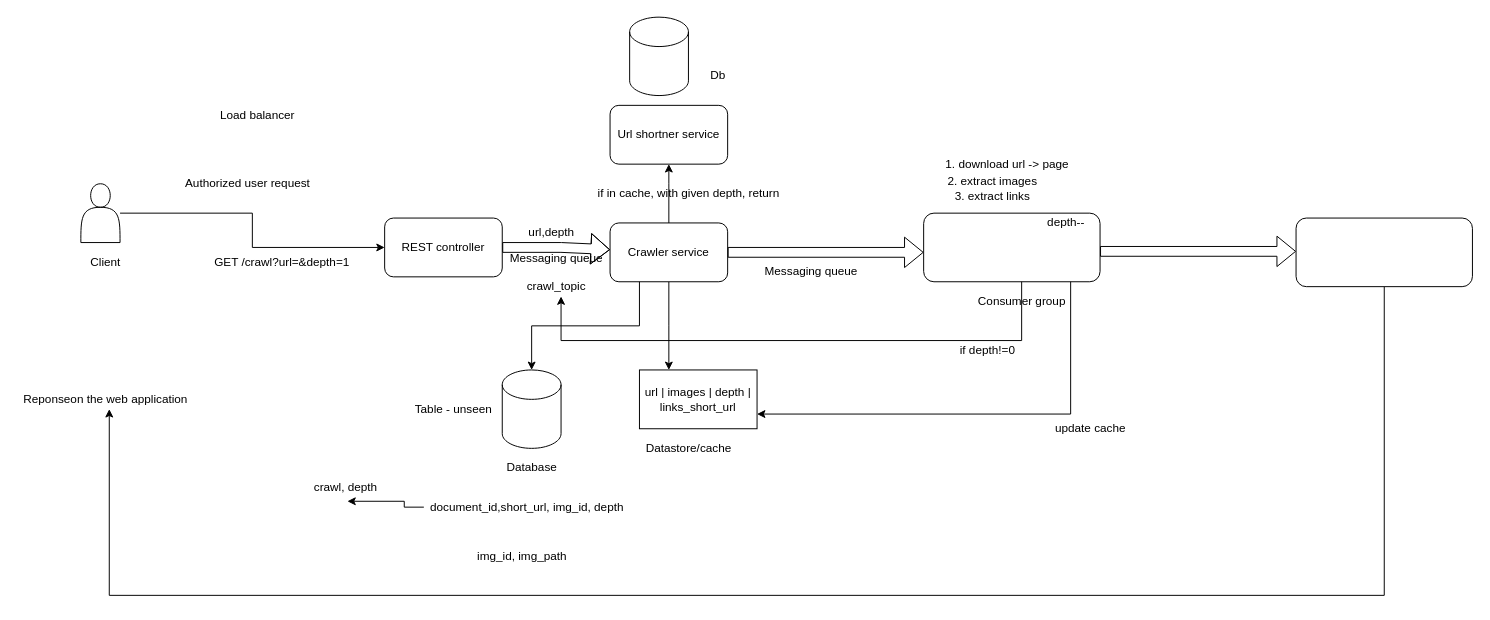
Some shapes in this 1490 by 620 pixel diagram are drawn without their labels. Here are the shapes that lost their labels. From the top down, the box of each, then its label:
(923, 212, 1100, 282): ExtractionService
(1295, 217, 1472, 287): Response Generation Service
